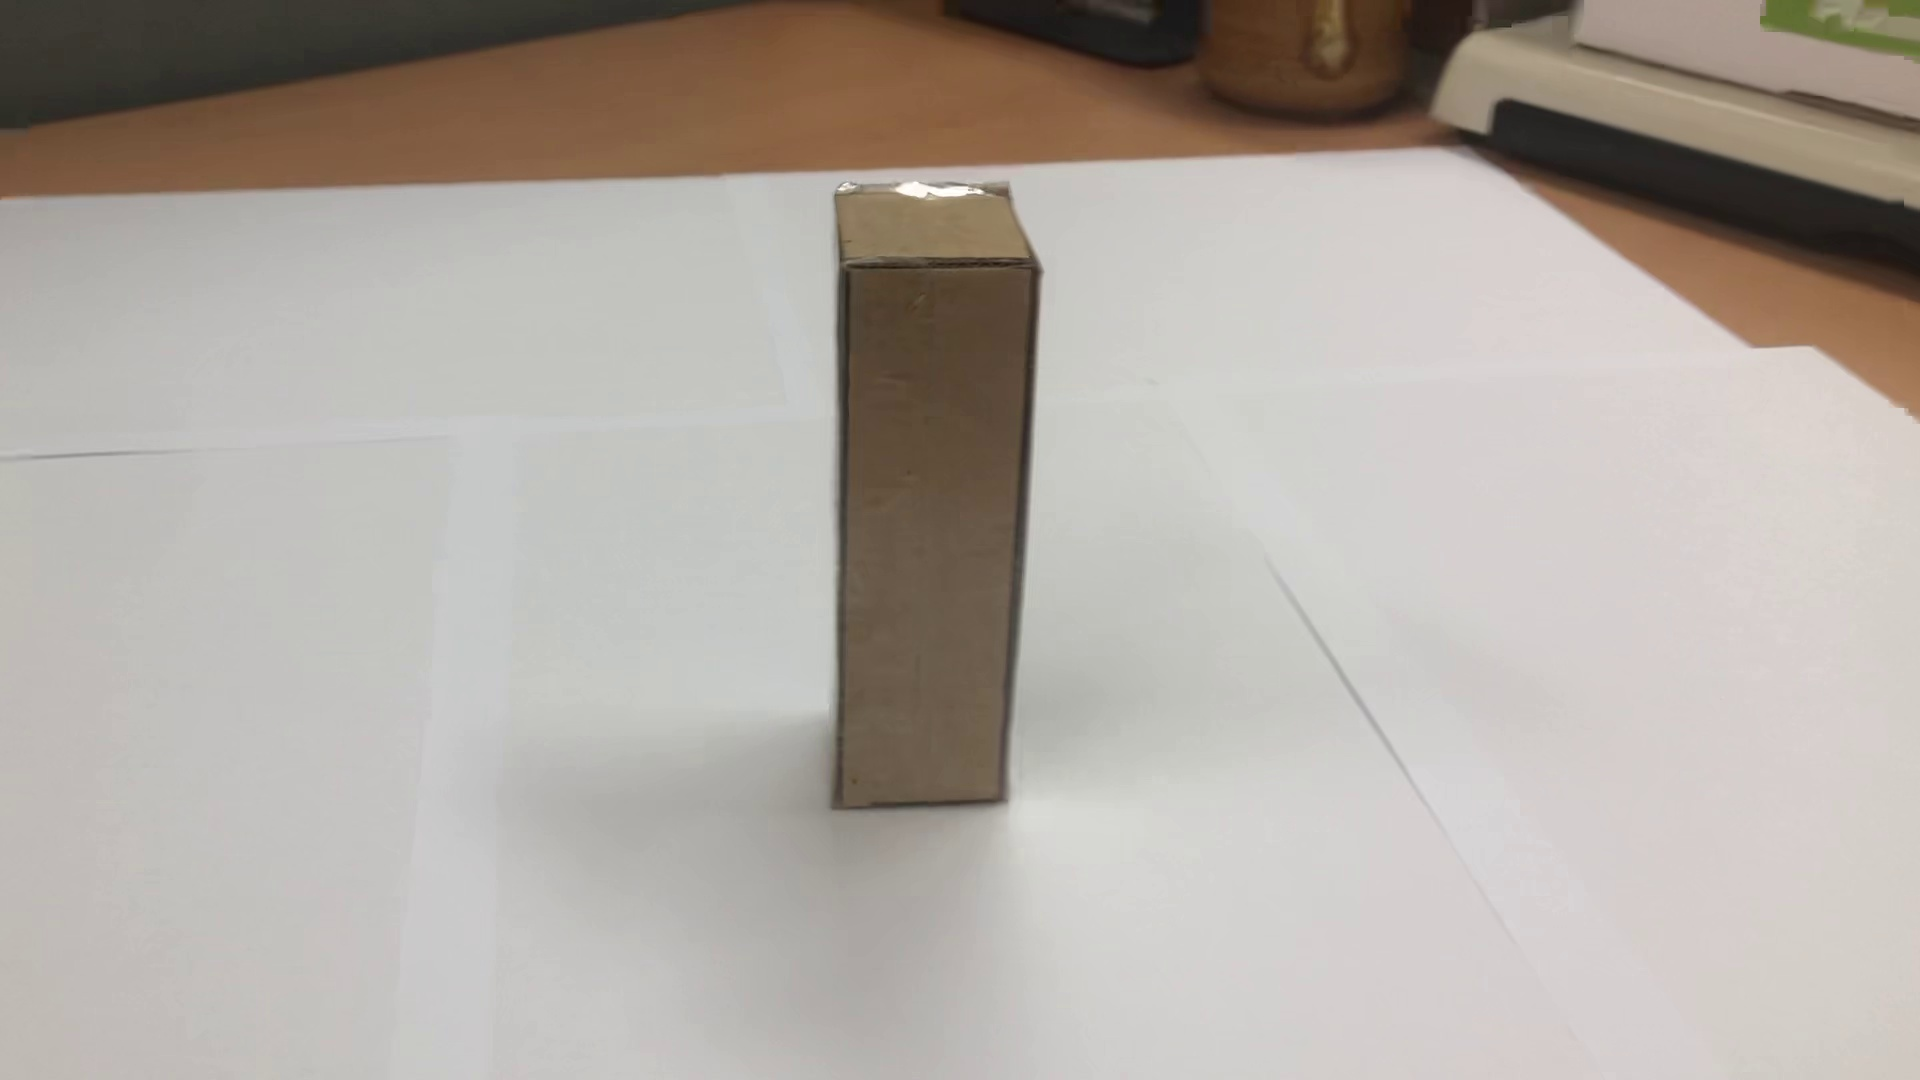box: (814, 160, 1034, 843)
